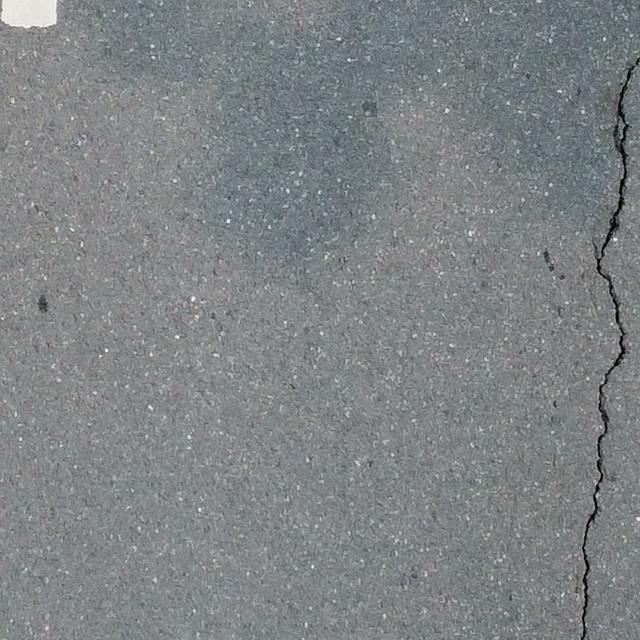LongitudinalCrack: (580, 59, 640, 640)
